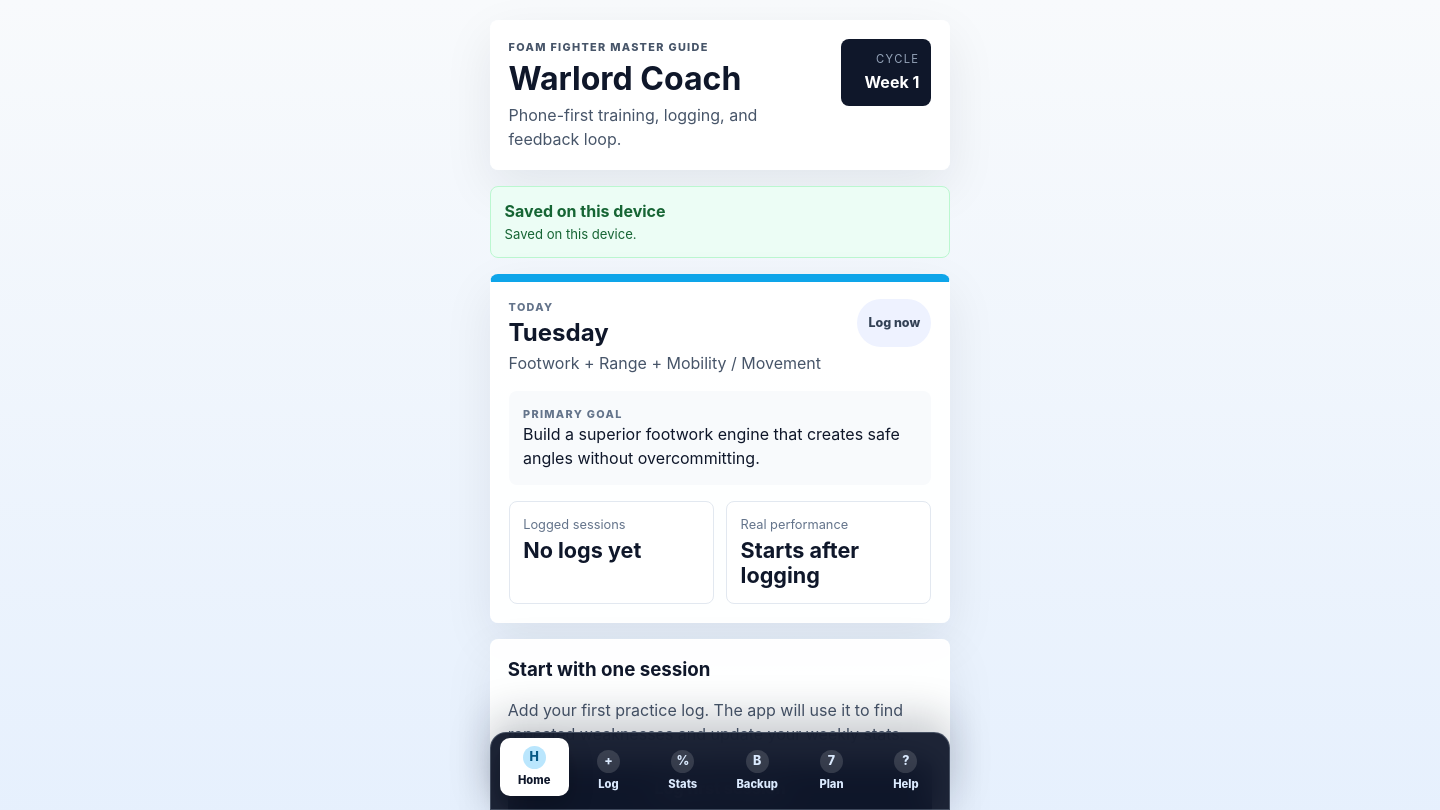
Test: app smoke and session logging flows › shows a blank metrics state before any real logs exist
Click the button "% Stats". click: (683, 771)
box: [648,742,717,800]
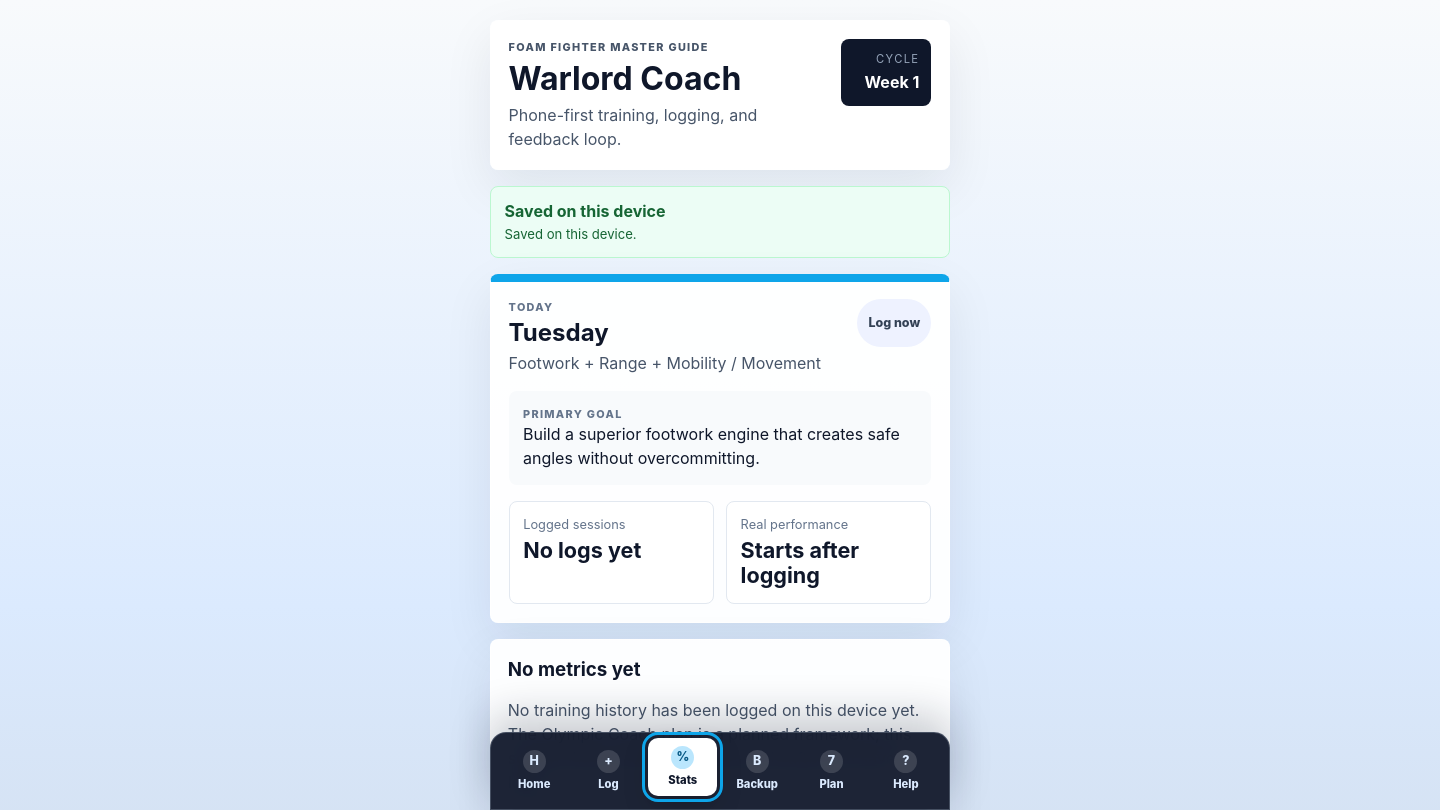
Result: the heading "No metrics yet" is shown at [508,658,641,681]
Result: the text "No training history has been logged" is shown at [508,700,920,792]
